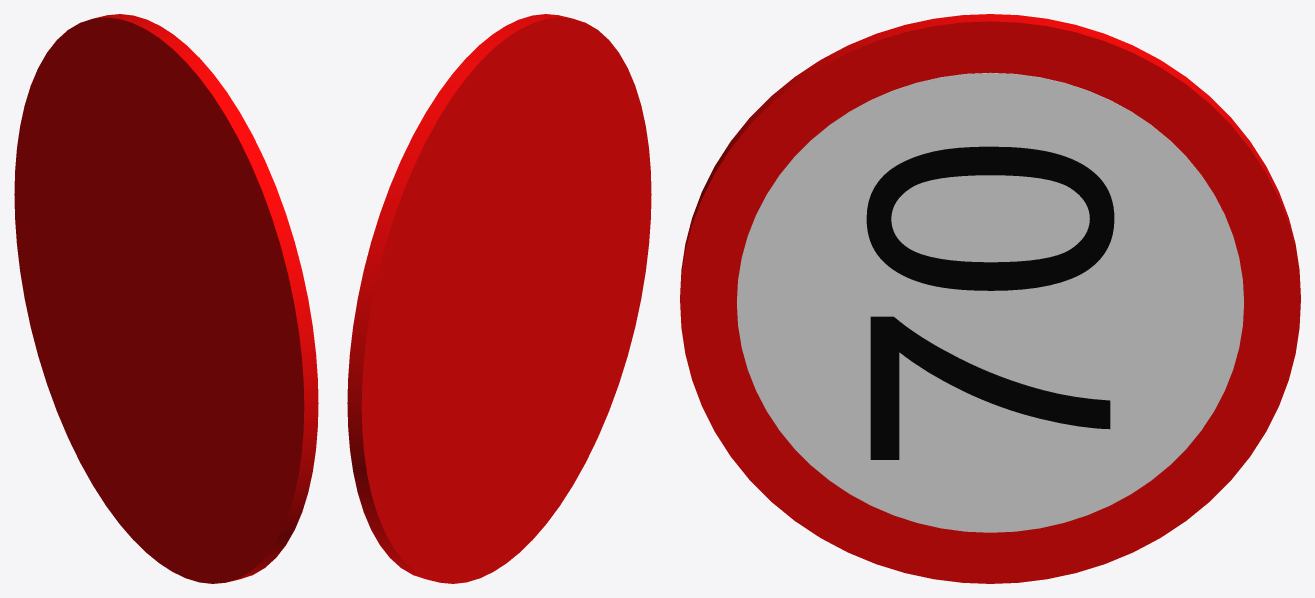
3 views of the same model, side by side, from view 1: azimuth 30°, elevation 25°; view 2: azimuth 150°, elevation 25°; view 3: azimuth 270°, elevation 25° (orthographic). The views are drawn at different scales.
Parts seen in each view (by area): view 1: 限速70; view 2: 限速70; view 3: 限速70.
Boxes of the visible parts, left/top/right/bottom form: 限速70: left=14, top=14, right=318, bottom=583; 限速70: left=347, top=14, right=651, bottom=583; 限速70: left=680, top=14, right=1300, bottom=583.
Bounding box in the file's own units: 0.0251 × 0.7737 × 0.7737.
